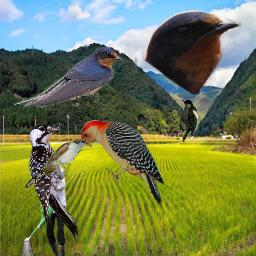Cuckoo: (24, 138, 94, 188)
Swallow: (143, 9, 243, 95), (13, 46, 123, 108)
Woodpecker: (73, 120, 167, 208), (28, 124, 78, 239), (181, 99, 198, 142)
